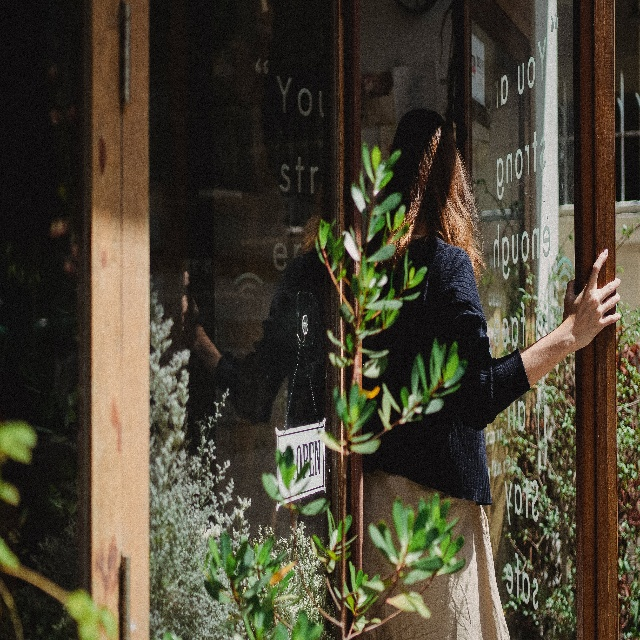Sin_guantes: (562, 244, 622, 345)
